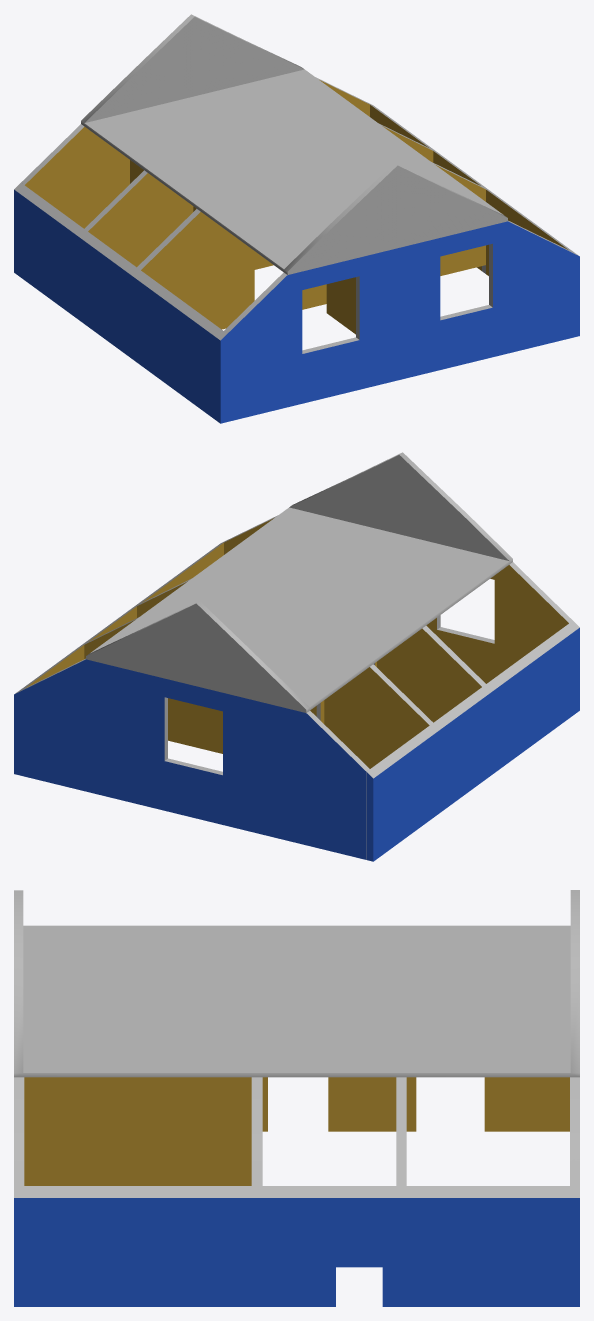
The model's file is Wall2.glb.
The picture shows the model from 3 angles, top to bottom: view 1: azimuth 30°, elevation 25°; view 2: azimuth 150°, elevation 25°; view 3: azimuth 270°, elevation 25°; orthographic projection. The views are drawn at different scales.
Parts seen in each view (by area): view 1: Wall2, Object011; view 2: Wall2, Object011; view 3: Wall2, Object011.
Part boxes in pixels (x1,y1,x2,y2): Wall2: (14, 77, 579, 423); Object011: (81, 14, 507, 274); Wall2: (14, 515, 579, 861); Object011: (86, 452, 512, 712); Wall2: (14, 1077, 579, 1306); Object011: (14, 890, 579, 1077).
Size of the model in its own units: 7.95 by 4.55 by 7.91.
